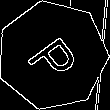P_NE: (21, 26, 84, 85)
